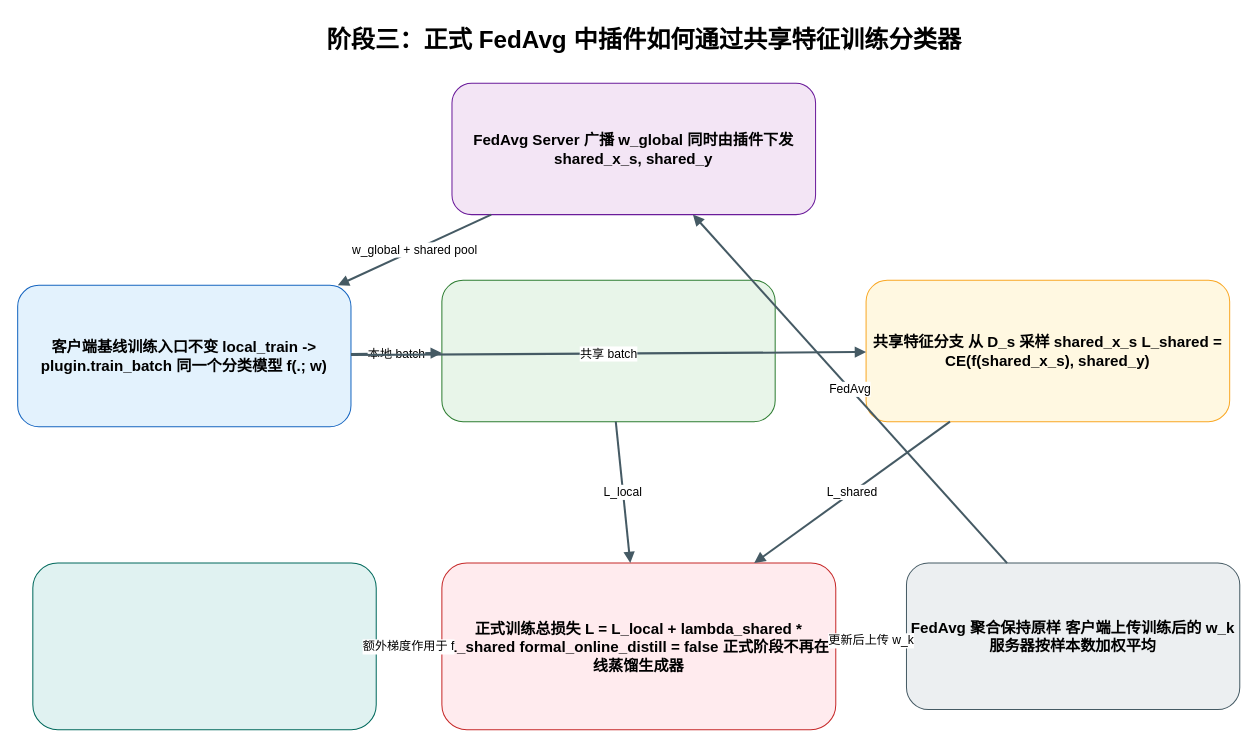
The diagram is 1257 pixels wide and 747 high, and some of its shapes have lost their labels. Here are the shapes that lost their labels. From the top down, the centre of each, then its label:
At (608,350): "本地原图分支 输入 x_local L_local = CE(f(x_local), y_local)".
At (204,646): "插件对基线模型的实际作用 不改分类器结构 通过额外 shared CE 改变梯度 缓解 label skew 下的 client drift".
